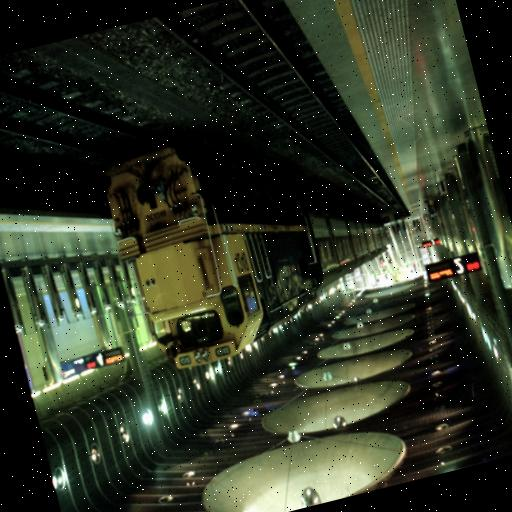platform_edge: (268, 0, 441, 127), (362, 110, 440, 223)
